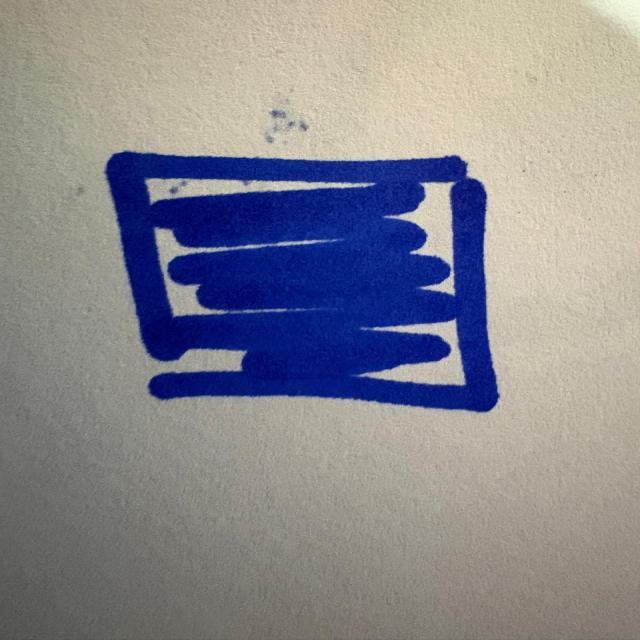Square: (93, 142, 521, 420)
